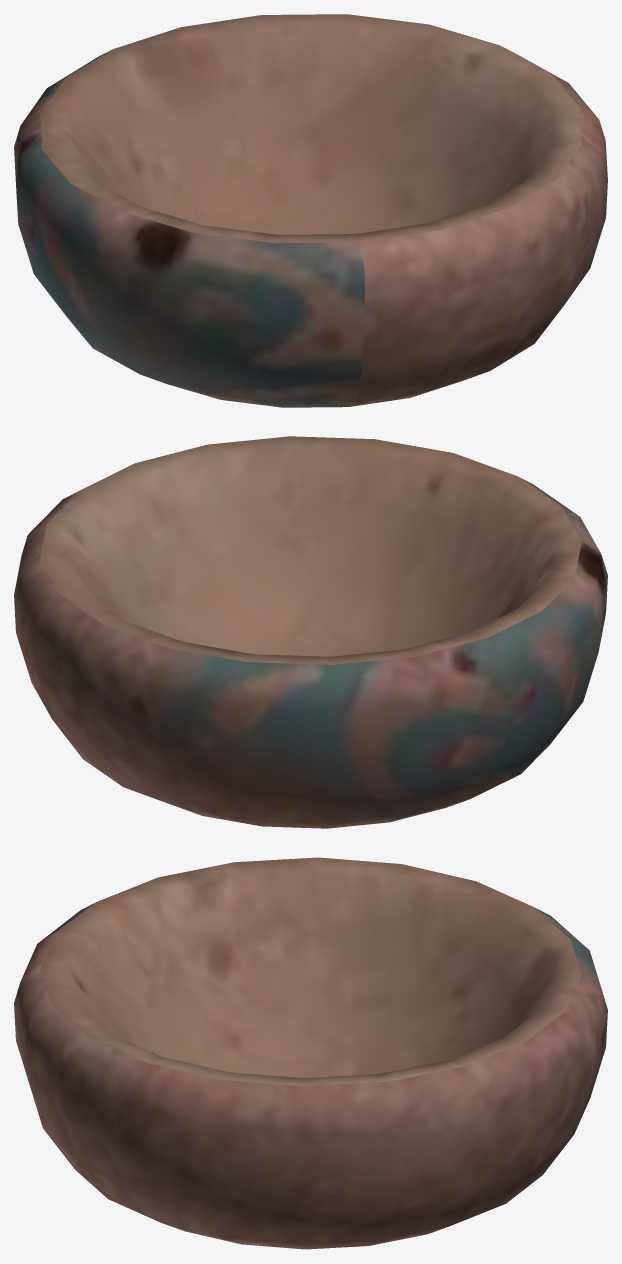
File: Bowl_01.glb
The picture shows the model from 3 angles, top to bottom: view 1: azimuth 30°, elevation 25°; view 2: azimuth 150°, elevation 25°; view 3: azimuth 270°, elevation 25°; orthographic projection.
Visible parts, largest first — view 1: SM_Bowl_01; view 2: SM_Bowl_01; view 3: SM_Bowl_01.
Part boxes in pixels (x1,y1,x2,y2): SM_Bowl_01: (14, 14, 607, 407); SM_Bowl_01: (14, 436, 607, 828); SM_Bowl_01: (14, 857, 607, 1249).
Bounding box in the file's own units: 0.1856 × 0.0675 × 0.1856.
1 material, 1 textured.
